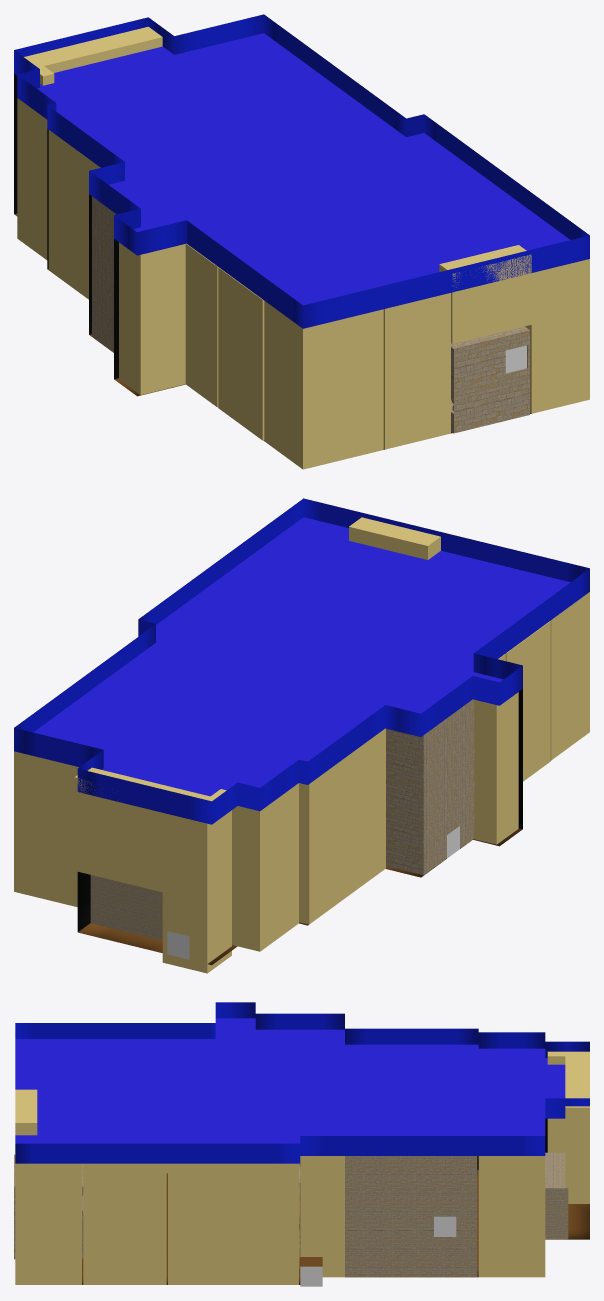
Rendered from Street_Room_3.1.fbx.
The picture shows the model from 3 angles, top to bottom: view 1: azimuth 30°, elevation 25°; view 2: azimuth 150°, elevation 25°; view 3: azimuth 270°, elevation 25°; orthographic projection. The views are drawn at different scales.
Parts seen in each view (by area): view 1: Room_3_Ceiling, Room_3, Outer_Buildings.007, Outer_Buildings.005, Outer_Buildings.006, Outer_Buildings.004, Room_3_Building, Outer_Buildings.008, Outer_Buildings.012, Outer_Buildings.003, Outer_Buildings.009, Room_3_Building.005; view 2: Room_3_Ceiling, Room_3, Outer_Buildings.009, Outer_Buildings.008, Room_3_Building.005, Outer_Buildings.007, Outer_Buildings.003, Outer_Buildings.002, Outer_Buildings.005, Room_3_Building.002, Outer_Buildings.012; view 3: Room_3_Ceiling, Room_3, Outer_Buildings.011, Room_3_Building.004, Outer_Buildings.010, Outer_Buildings.002, Outer_Buildings.004, Outer_Buildings.024, Outer_Buildings.009, Room_3_Building.002, Outer_Buildings.012, Doorway_3 (+2 smaller).
Boxes of the visible parts, x1,y1,x2,y2 form: Room_3_Ceiling: (37,33,570,305); Room_3: (14,14,589,449); Outer_Buildings.007: (119,242,264,440); Outer_Buildings.005: (264,301,383,469); Outer_Buildings.006: (383,293,450,449); Outer_Buildings.004: (525,259,589,413); Room_3_Building: (451,326,529,433); Outer_Buildings.008: (48,130,100,299); Outer_Buildings.012: (439,245,531,343); Outer_Buildings.003: (17,98,47,259); Outer_Buildings.009: (24,26,162,85); Room_3_Building.005: (92,196,116,352); Room_3_Ceiling: (33,517,570,796); Room_3: (14,498,589,965); Outer_Buildings.009: (74,767,231,973); Outer_Buildings.008: (299,728,385,924); Room_3_Building.005: (386,699,474,875); Outer_Buildings.007: (474,621,550,844); Outer_Buildings.003: (232,783,298,951); Outer_Buildings.002: (14,751,78,907); Outer_Buildings.005: (550,592,589,760); Room_3_Building.002: (90,875,162,940); Outer_Buildings.012: (349,517,440,559); Room_3_Ceiling: (15,1018,565,1143); Room_3: (15,1002,589,1284); Outer_Buildings.011: (168,1163,298,1284); Room_3_Building.004: (345,1156,477,1276); Outer_Buildings.010: (83,1163,166,1284); Outer_Buildings.002: (478,1156,545,1277); Outer_Buildings.004: (15,1163,81,1284); Outer_Buildings.024: (300,1156,344,1277); Outer_Buildings.009: (547,1051,589,1203); Room_3_Building.002: (545,1152,568,1239); Outer_Buildings.012: (15,1089,37,1135); Doorway_3: (300,1266,322,1286).
Bounding box in the file's own units: 7600 × 3700 × 12927.
